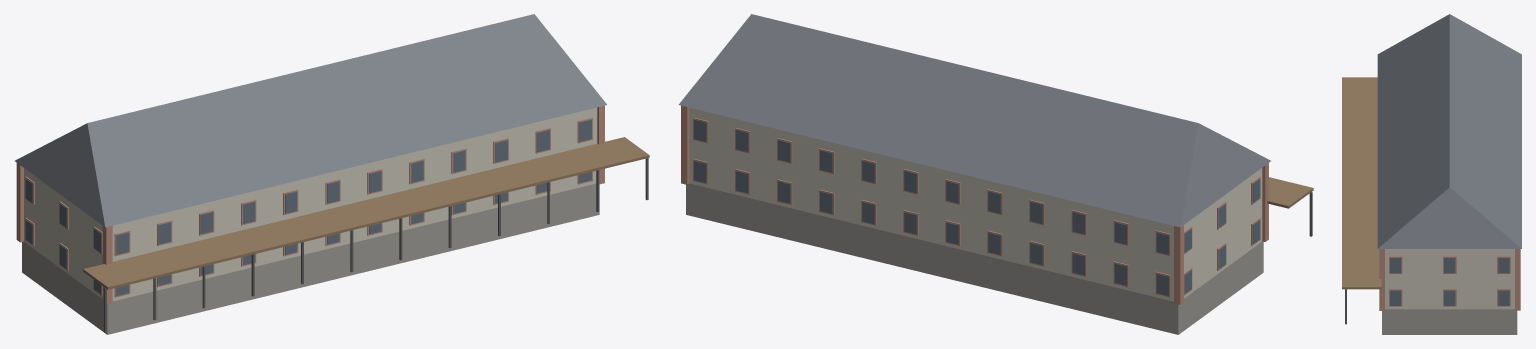
File: landmark-muellheim-bahnhof.298e20df15.glb
3 renders of one model, left to right at view 1: azimuth 30°, elevation 25°; view 2: azimuth 150°, elevation 25°; view 3: azimuth 270°, elevation 25°, orthographic. The views are drawn at different scales.
Parts seen in each view (by area): view 1: building; view 2: building; view 3: building.
Boxes of the visible parts, bbox=[...] form: building: bbox=[15, 14, 649, 334]; building: bbox=[678, 14, 1313, 334]; building: bbox=[1342, 14, 1521, 334].
Bounding box in the file's own units: 44.15 × 13.6 × 15.95.
